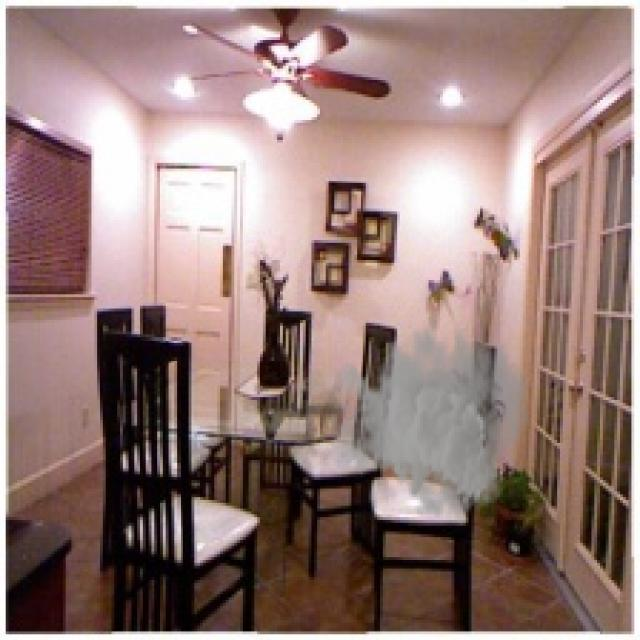Smoke: (328, 306, 532, 528)
